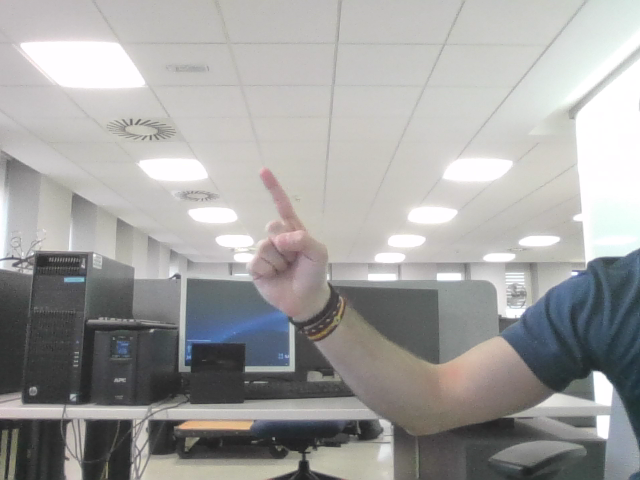1Dedo: (258, 179, 316, 275)
